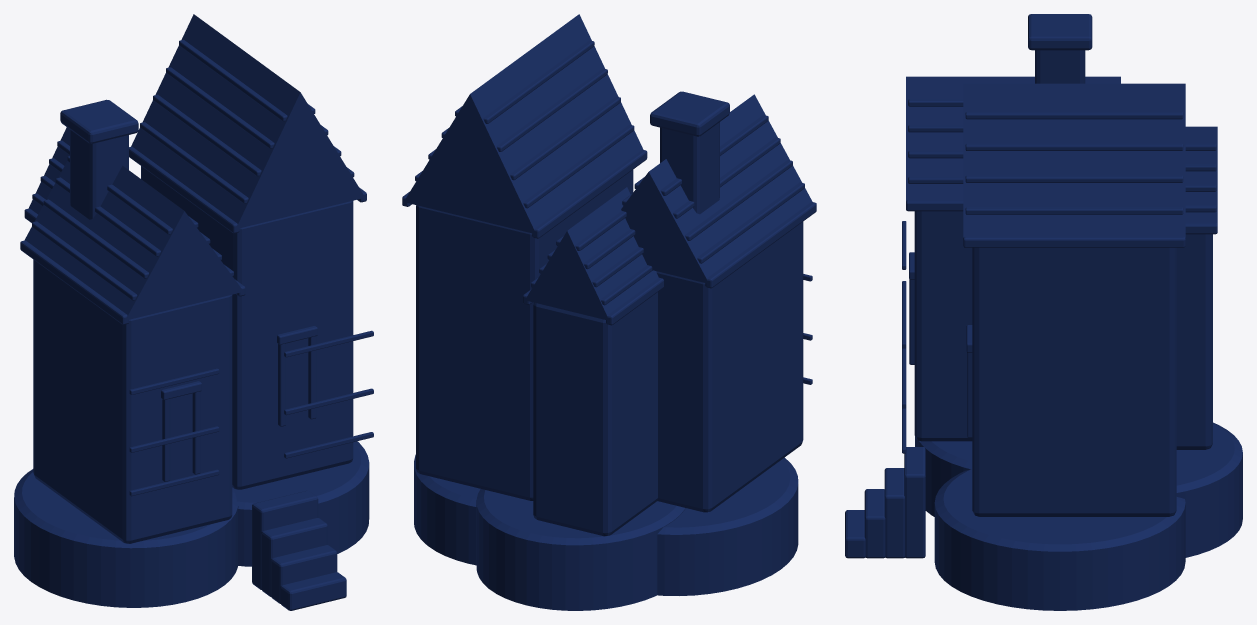
File: village-blue.fbx
3 renders of one model, left to right at view 1: azimuth 30°, elevation 25°; view 2: azimuth 150°, elevation 25°; view 3: azimuth 270°, elevation 25°, orthographic. The views are drawn at different scales.
Parts seen in each view (by area): view 1: Village_Moulded_Sculpt; view 2: Village_Moulded_Sculpt; view 3: Village_Moulded_Sculpt.
Boxes of the visible parts, <box> form: Village_Moulded_Sculpt: <box>14,14,373,610</box>; Village_Moulded_Sculpt: <box>402,14,816,610</box>; Village_Moulded_Sculpt: <box>845,14,1242,610</box>.
Bounding box in the file's own units: 0.012 × 0.016 × 0.012.
